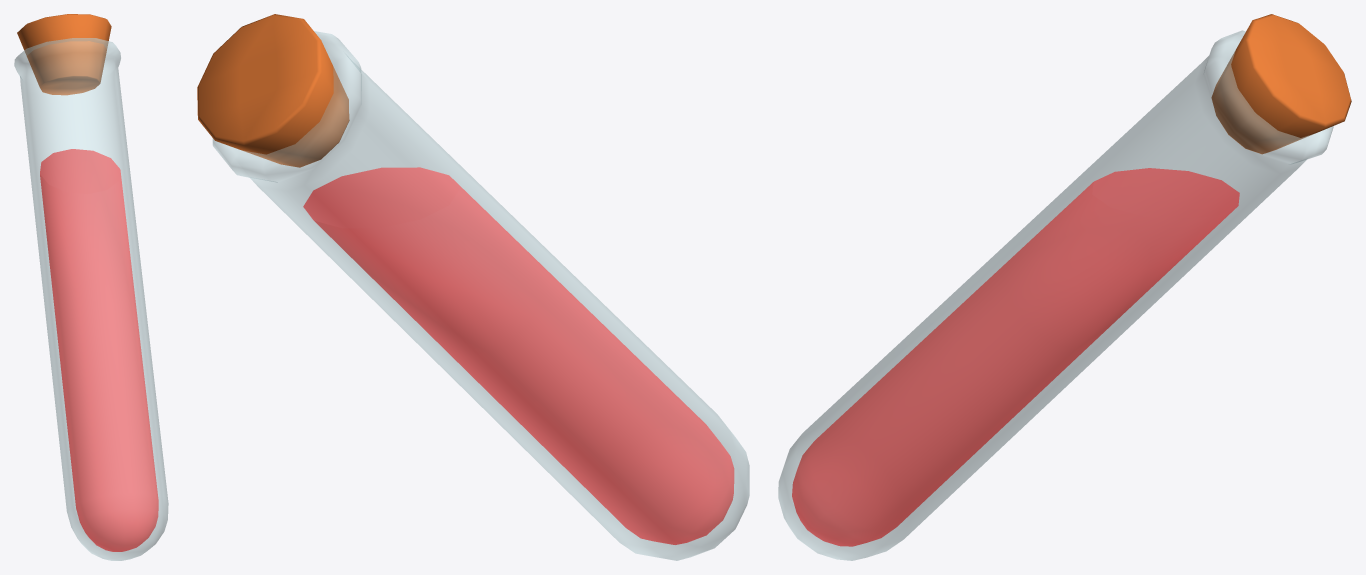
The model's file is SmellingSalts.fbx.
3 views of the same model, side by side, from view 1: azimuth 30°, elevation 25°; view 2: azimuth 150°, elevation 25°; view 3: azimuth 270°, elevation 25° (orthographic). The views are drawn at different scales.
Visible parts, largest first — view 1: Vial_lowpoly, Fluid, Cork_2_lowpoly; view 2: Vial_lowpoly, Fluid, Cork_2_lowpoly; view 3: Vial_lowpoly, Fluid, Cork_2_lowpoly.
Part boxes in pixels (<box>): Vial_lowpoly: <box>14,38,168,560</box>; Fluid: <box>40,149,158,551</box>; Cork_2_lowpoly: <box>17,14,111,95</box>; Vial_lowpoly: <box>212,31,749,560</box>; Fluid: <box>303,167,734,544</box>; Cork_2_lowpoly: <box>197,14,349,167</box>; Vial_lowpoly: <box>778,30,1333,560</box>; Fluid: <box>792,168,1239,546</box>; Cork_2_lowpoly: <box>1211,14,1351,154</box>.
Size of the model in its own units: 57.67 by 125 by 108.
